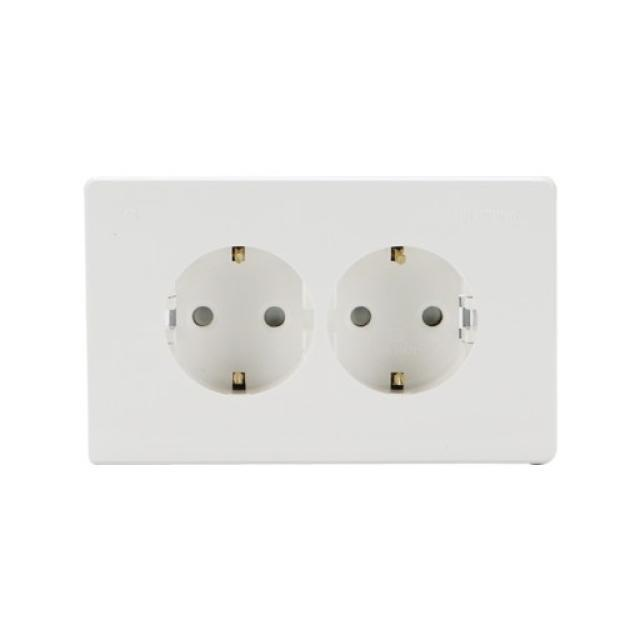typeb: (58, 178, 578, 486)
